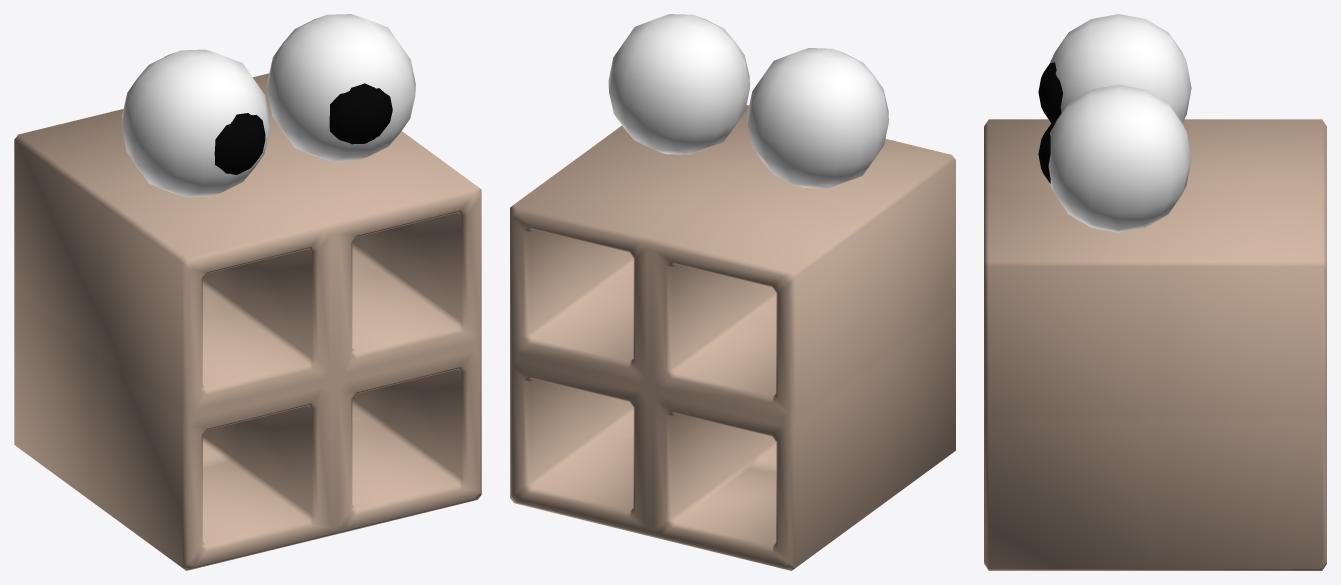
Rendered from CinderBlock 1.fbx.
3 views of the same model, side by side, from view 1: azimuth 30°, elevation 25°; view 2: azimuth 150°, elevation 25°; view 3: azimuth 270°, elevation 25° (orthographic). The views are drawn at different scales.
Visible parts, largest first — view 1: CinderBlocks, Eye_R, Eye_L, EyeBall_L, EyeBall_R; view 2: CinderBlocks, Eye_R, Eye_L; view 3: CinderBlocks, Eye_L, Eye_R, EyeBall_R, EyeBall_L.
Part boxes in pixels (<box>): CinderBlocks: <box>14,73,481,570</box>; Eye_R: <box>121,49,269,197</box>; Eye_L: <box>267,14,415,161</box>; EyeBall_L: <box>329,83,392,144</box>; EyeBall_R: <box>214,113,265,174</box>; CinderBlocks: <box>510,105,955,570</box>; Eye_R: <box>747,48,888,188</box>; Eye_L: <box>608,14,749,154</box>; CinderBlocks: <box>984,119,1326,570</box>; Eye_L: <box>1048,84,1191,232</box>; Eye_R: <box>1050,14,1191,122</box>; EyeBall_R: <box>1038,62,1062,122</box>; EyeBall_L: <box>1038,120,1056,183</box>.
Size of the model in its own units: 64.48 by 92.21 by 64.48.
